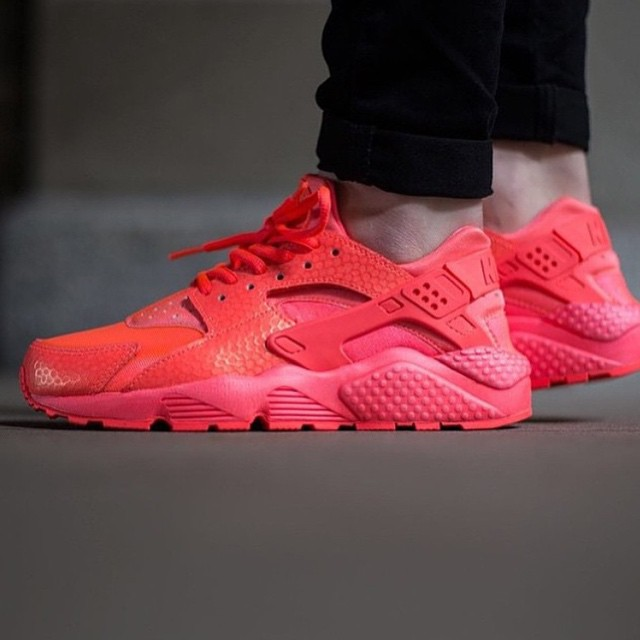sneaker: (1, 158, 556, 451), (450, 139, 640, 413)
